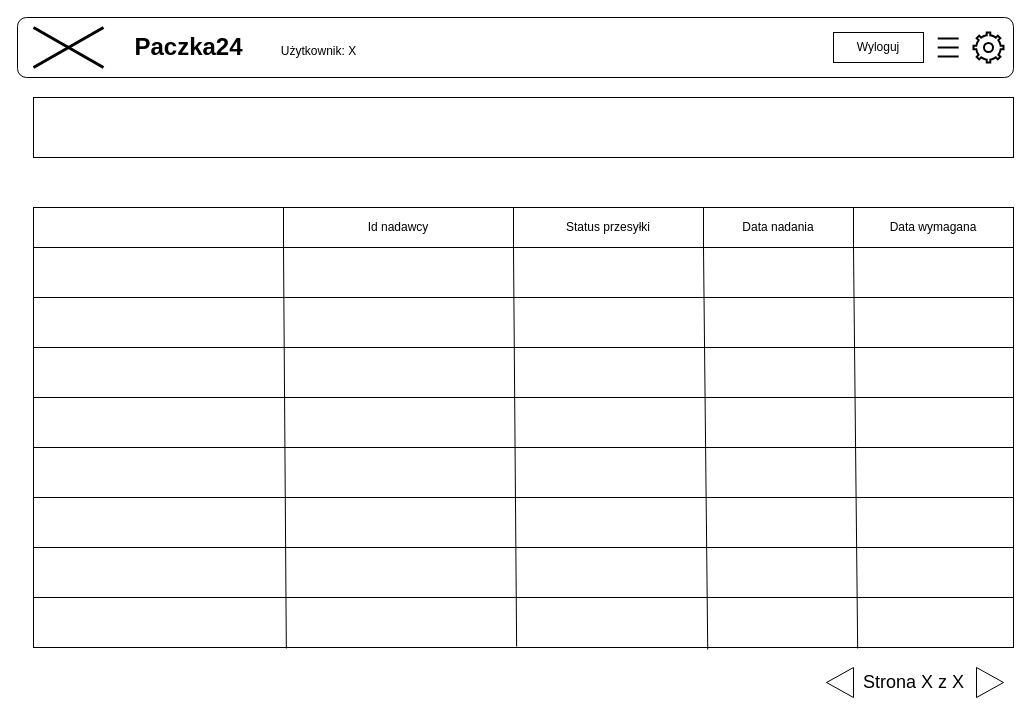
Some shapes in this 1031 by 720 pixel diagram are drawn without their labels. The shapes that lost their labels are listed below. From the top down, each one's centre as x and y in pixels, then its label:
At (523,127): "Dodaj Przesyłkę".
At (158,227): "Id zamówienia".
